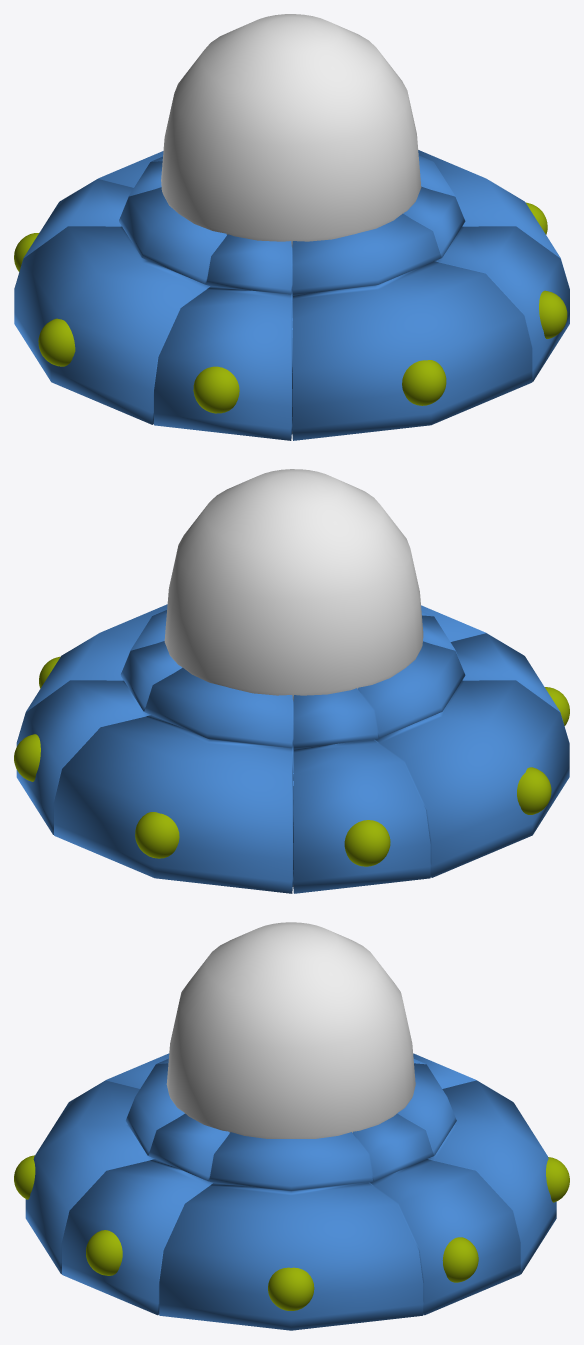
The model's file is spaceship_ufo_clean.fbx.
3 renders of one model, top to bottom at view 1: azimuth 30°, elevation 25°; view 2: azimuth 150°, elevation 25°; view 3: azimuth 270°, elevation 25°, orthographic. The views are drawn at different scales.
Visible parts, largest first — view 1: UFO ship, cloche, Lights.001, Lights, Lights.002, Lights.006; view 2: UFO ship, cloche, Lights.004, Lights.003, Lights.002, Lights.007; view 3: UFO ship, cloche, Lights.005, Lights.006, Lights.007, Lights.003, Lights.
Boxes of the visible parts, box(x1,y1,x2,y2) form: UFO ship: box(14, 150, 569, 440); cloche: box(161, 14, 421, 247); Lights.001: box(193, 366, 239, 413); Lights: box(402, 360, 446, 405); Lights.002: box(38, 318, 75, 366); Lights.006: box(539, 290, 567, 338); UFO ship: box(16, 604, 569, 893); cloche: box(164, 469, 423, 700); Lights.004: box(344, 820, 390, 866); Lights.003: box(135, 812, 179, 858); Lights.002: box(517, 767, 551, 814); Lights.007: box(14, 734, 40, 781); UFO ship: box(25, 1053, 556, 1330); cloche: box(166, 922, 415, 1138); Lights.005: box(268, 1267, 314, 1310); Lights.006: box(86, 1230, 122, 1275); Lights.007: box(442, 1237, 478, 1282); Lights.003: box(546, 1157, 569, 1202); Lights: box(14, 1155, 35, 1199).
Size of the model in its own units: 4.89 by 4.88 by 3.39.
